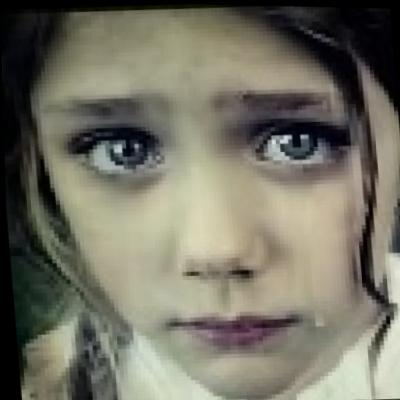sad: (27, 7, 389, 400)
